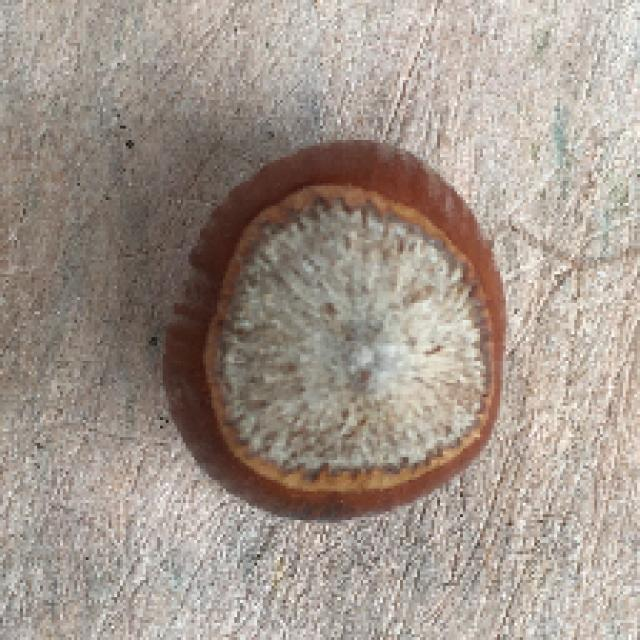QualityHazelnut: (162, 135, 511, 528)
